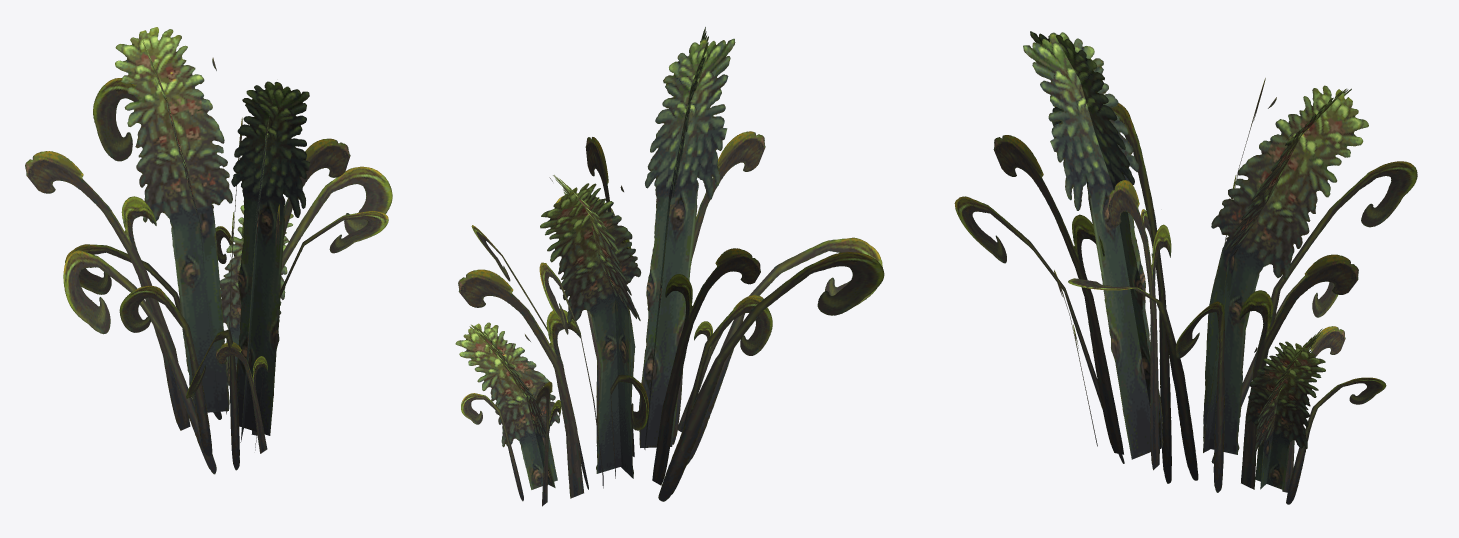
The model's file is dx_huacao_1.FBX.
3 renders of one model, left to right at view 1: azimuth 30°, elevation 25°; view 2: azimuth 150°, elevation 25°; view 3: azimuth 270°, elevation 25°, orthographic. The views are drawn at different scales.
Parts seen in each view (by area): view 1: dx_huacao_1; view 2: dx_huacao_1; view 3: dx_huacao_1.
Boxes of the visible parts, x1=… form: dx_huacao_1: x1=25, y1=27, x2=392, y2=474; dx_huacao_1: x1=455, y1=27, x2=884, y2=506; dx_huacao_1: x1=954, y1=31, x2=1417, y2=504.
Bounding box in the file's own units: 141 × 150 × 139.
